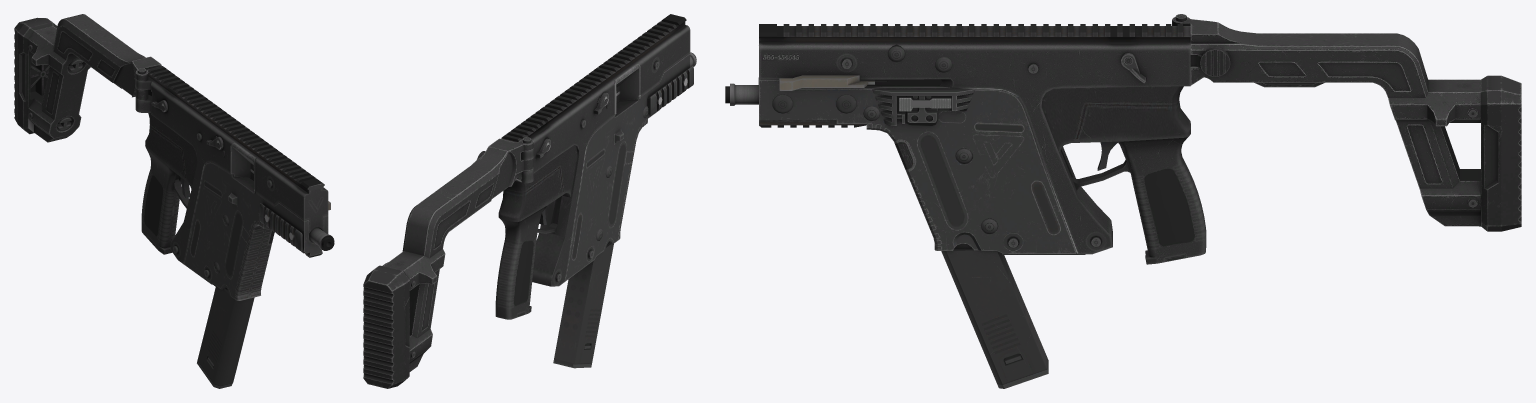
The model's file is raw.glb.
3 renders of one model, left to right at view 1: azimuth 30°, elevation 25°; view 2: azimuth 150°, elevation 25°; view 3: azimuth 270°, elevation 25°, orthographic. The views are drawn at different scales.
Parts seen in each view (by area): view 1: kriss_LOD0; view 2: kriss_LOD0; view 3: kriss_LOD0.
Boxes of the visible parts, left/top/right/bottom form: kriss_LOD0: left=14, top=14, right=334, bottom=388; kriss_LOD0: left=363, top=14, right=696, bottom=388; kriss_LOD0: left=725, top=14, right=1521, bottom=388.
Bounding box in the file's own units: 0.0486 × 0.2557 × 0.5149.
Materials: 1 (1 with a texture image).
